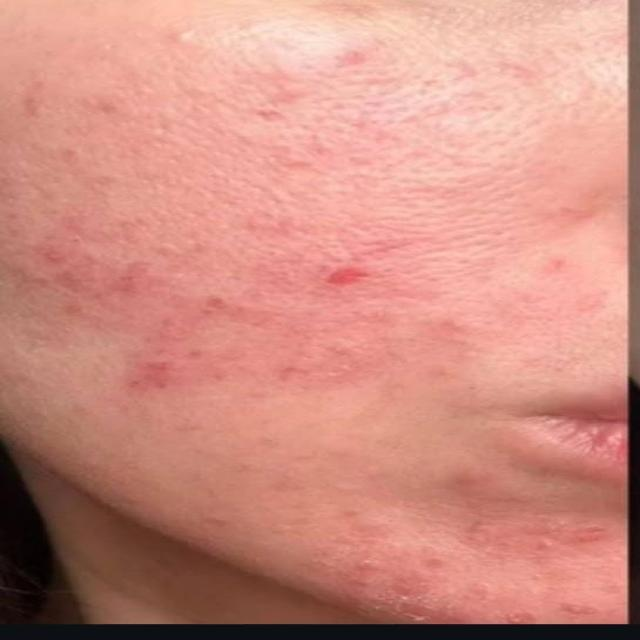Rosacea: (50, 235, 428, 386)
